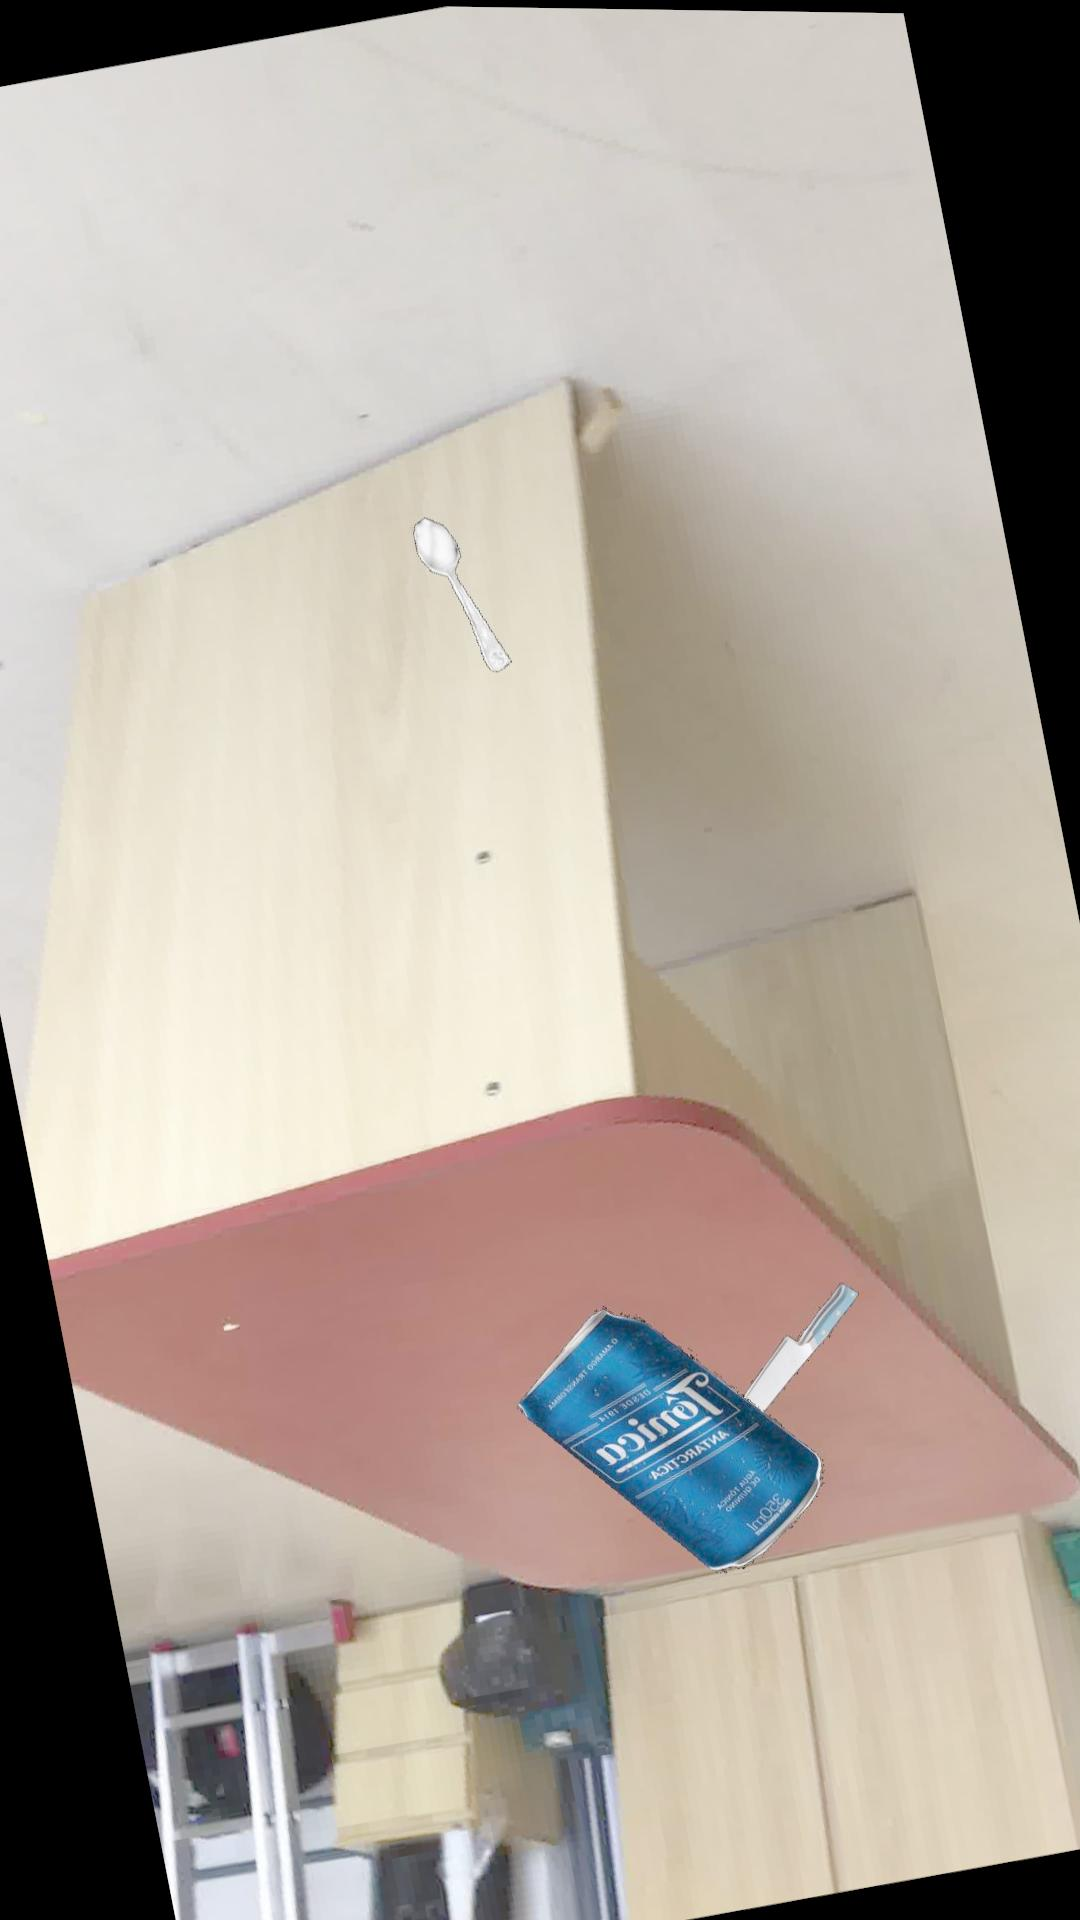knife: (742, 1282, 858, 1412)
spoon: (411, 517, 510, 673)
tonic: (516, 1308, 822, 1571)
